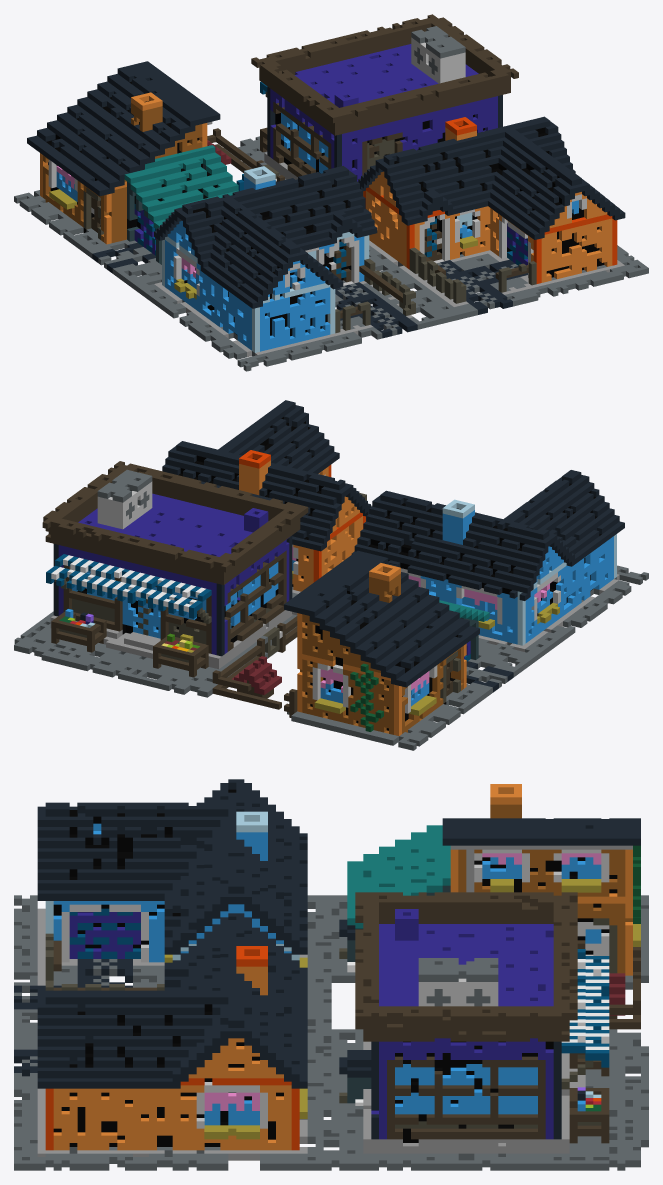
Rendered from building_small_11_damaged.obj.
The picture shows the model from 3 angles, top to bottom: view 1: azimuth 30°, elevation 25°; view 2: azimuth 150°, elevation 25°; view 3: azimuth 270°, elevation 25°; orthographic projection. The views are drawn at different scales.
Bounding box in the file's own units: 8 × 2.4 × 8.
1 material, 1 textured.
